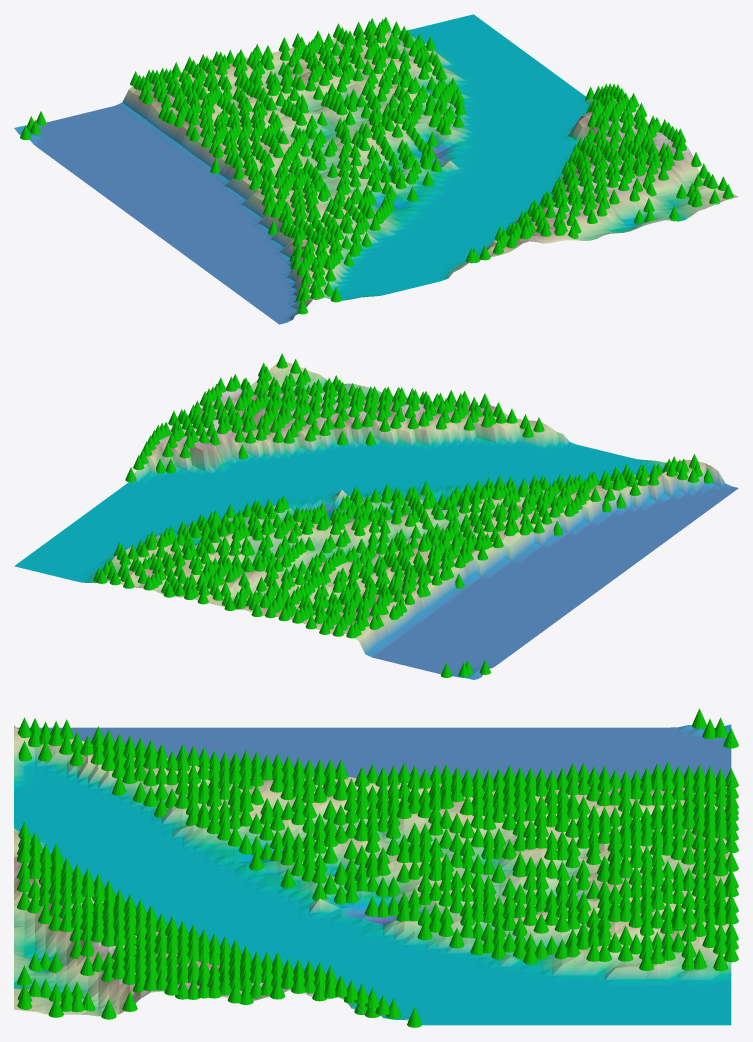
File: 002949_with_tree.glb
3 views of the same model, one above another, from view 1: azimuth 30°, elevation 25°; view 2: azimuth 150°, elevation 25°; view 3: azimuth 270°, elevation 25° (orthographic). The views are drawn at different scales.
Visible parts, largest first — view 1: terrain, trees; view 2: terrain, trees; view 3: trees, terrain.
Part boxes in pixels (bbox=[...]): terrain: bbox=[14, 14, 738, 324]; trees: bbox=[20, 17, 733, 314]; terrain: bbox=[14, 362, 738, 679]; trees: bbox=[93, 353, 713, 677]; trees: bbox=[17, 708, 738, 1027]; terrain: bbox=[14, 724, 731, 1025].
Size of the model in its own units: 0.0187 by 0.0017 by 0.0185.
